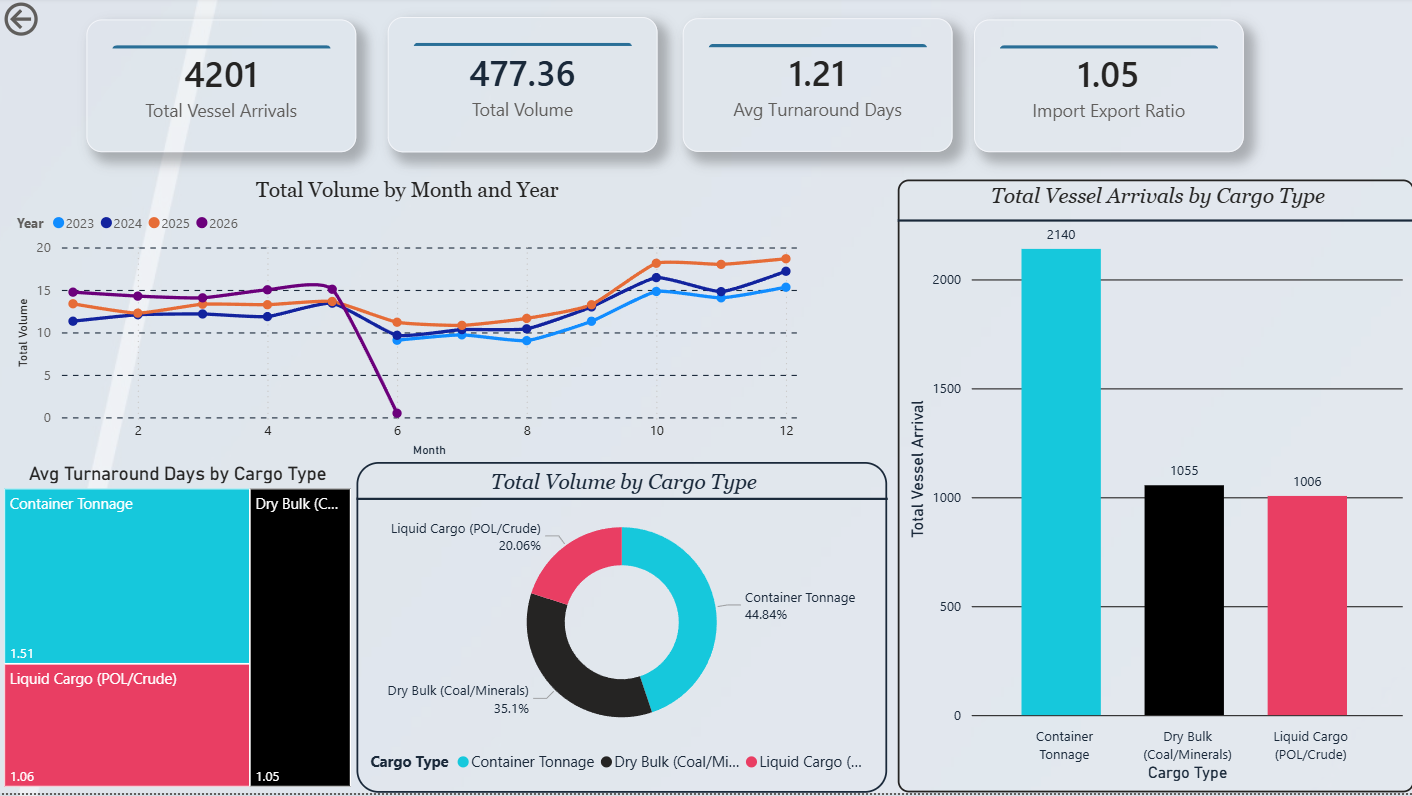

Layout of this report page (visuals, bound fields, positions):
{"tool":"powerbi","page":{"name":"Strategic Macro Trends","canvas":[1280,720],"ordinal":1},"visuals":[{"type":"actionButton","box":[0,0,100,40],"z":0},{"type":"cardVisual","fields":{"Data":["daily_port_cargo.Total Volume"]},"box":[351.6,18.1,244.2,122.1],"z":1000},{"type":"cardVisual","fields":{"Data":["daily_port_cargo.Total Vessel Arrivals"]},"box":[99.5,20.4,244.2,119.8],"z":2000},{"type":"cardVisual","fields":{"Data":["daily_port_cargo.Avg Turnaround Days"]},"box":[604.9,18.1,244.2,121],"z":3000},{"type":"cardVisual","fields":{"Data":["daily_port_cargo.Import Export Ratio"]},"box":[858.2,18.1,244.2,119.8],"z":4000},{"type":"clusteredColumnChart","title":"Total Vessel Arrivals by Cargo Type","fields":{"Category":["daily_port_cargo.Cargo_Type"],"Y":["daily_port_cargo.Total Vessel Arrivals"]},"box":[780,181.2,485,295],"z":5000},{"type":"lineChart","title":"Total Volume by Month and Year","fields":{"Y":["daily_port_cargo.Total Volume"],"Series":["daily_port_cargo.Year"],"Category":["daily_port_cargo.Full_Month_Name"]},"box":[11.2,163.8,752.5,538.8],"z":6000},{"type":"textbox","box":[797.5,537.5,467.5,165],"z":7000}]}

Visuals, with their boxes in screenshot pixels (x1, y1, x2, y2), scaled from the page's 1280x720 canvas onto the 1412x796 screenshot:
actionButton: box(0, 0, 110, 44)
cardVisual - daily_port_cargo.Total Volume: box(388, 20, 657, 155)
cardVisual - daily_port_cargo.Total Vessel Arrivals: box(110, 23, 379, 155)
cardVisual - daily_port_cargo.Avg Turnaround Days: box(667, 20, 937, 154)
cardVisual - daily_port_cargo.Import Export Ratio: box(947, 20, 1216, 152)
"Total Vessel Arrivals by Cargo Type" clusteredColumnChart: box(860, 200, 1395, 526)
"Total Volume by Month and Year" lineChart: box(12, 181, 842, 777)
textbox: box(880, 594, 1395, 777)
